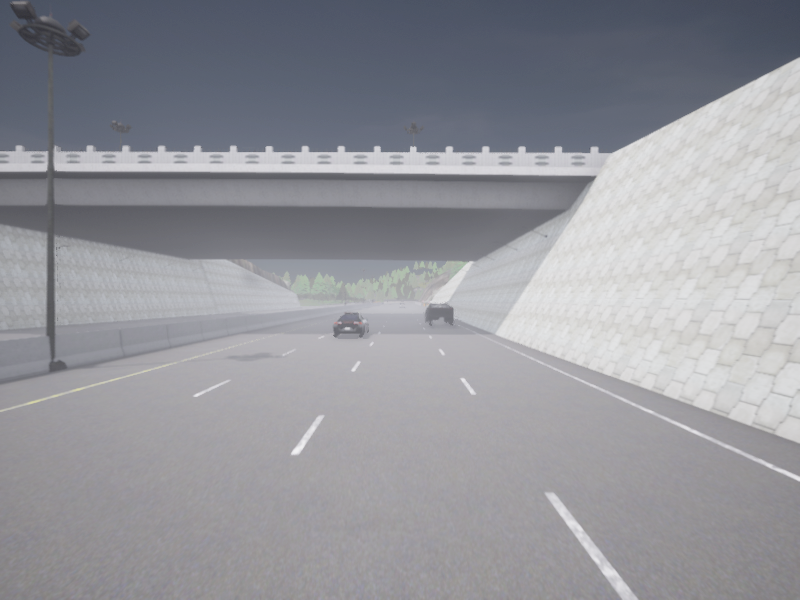vehicle: (333, 313, 368, 336), (425, 303, 453, 325), (399, 303, 404, 307)
